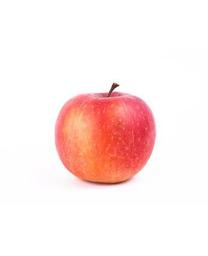apple: (49, 83, 156, 183)
